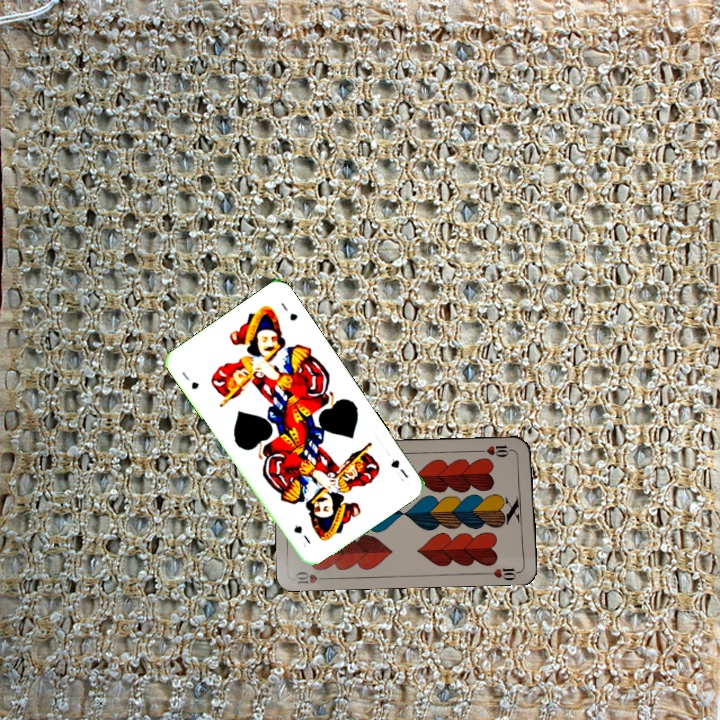GU: (386, 455, 411, 481), (177, 367, 202, 392)
H10: (476, 441, 517, 460), (291, 567, 332, 586)
